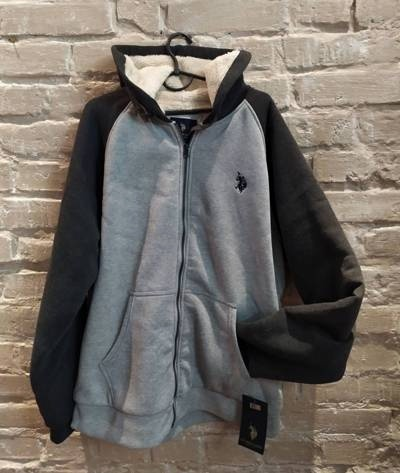Hoodie: (44, 30, 364, 461)
